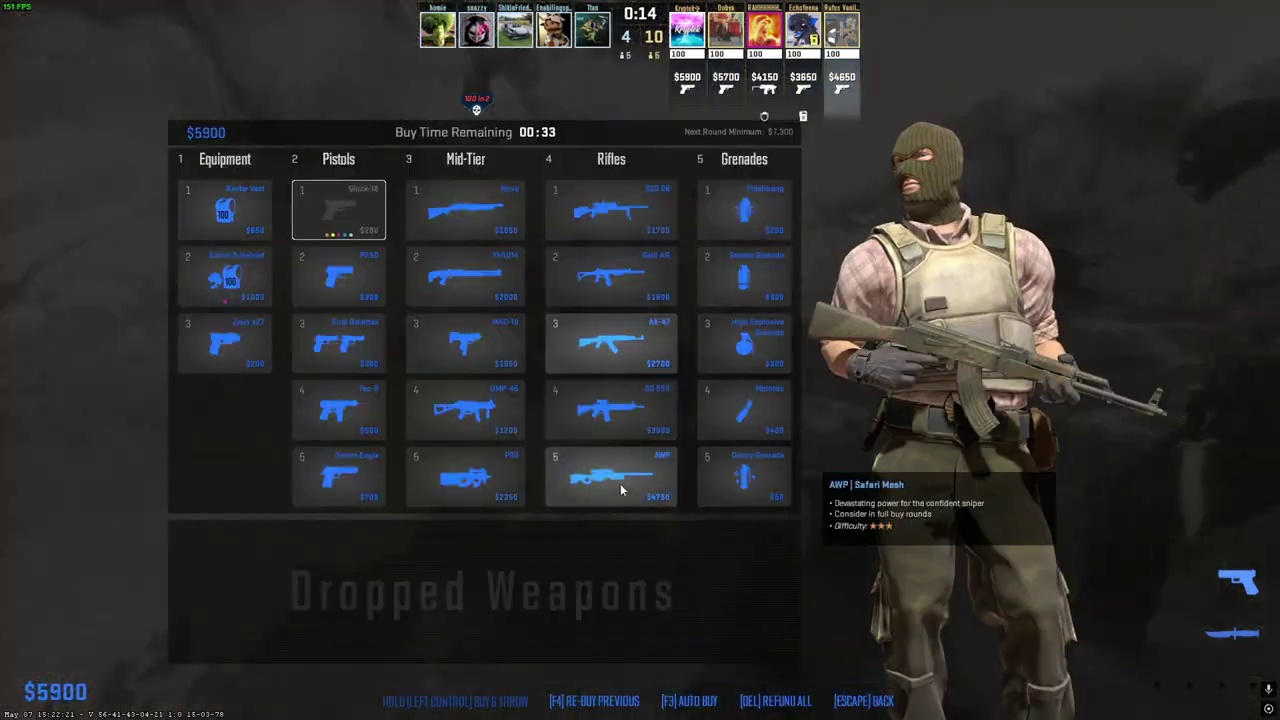Terrorist: (843, 121, 1082, 720)
